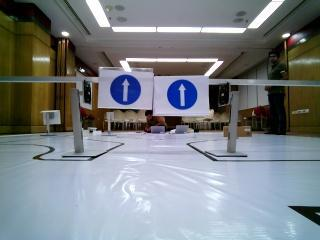straight: (99, 65, 151, 108), (154, 76, 208, 116)
